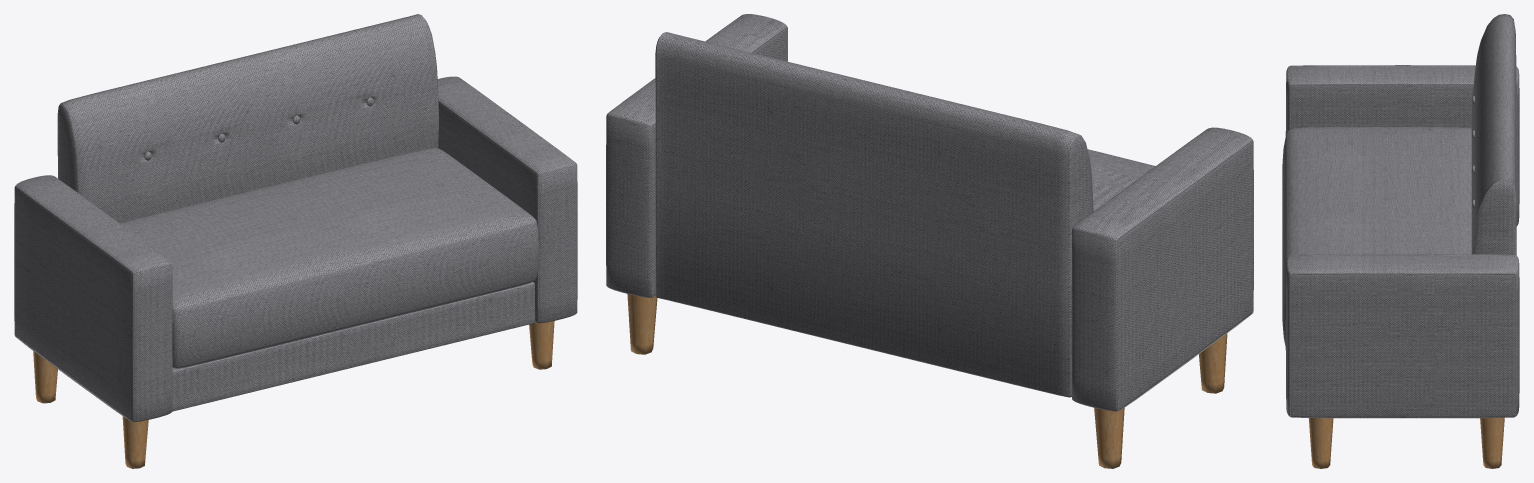
The model's file is design7.obj.
The picture shows the model from 3 angles, left to right: view 1: azimuth 30°, elevation 25°; view 2: azimuth 150°, elevation 25°; view 3: azimuth 270°, elevation 25°; orthographic projection. The views are drawn at different scales.
Parts seen in each view (by area): view 1: Box031, Box029, Box030, Box028, Box032; view 2: Box029, Box030, Box032, Box031; view 3: Box030, Box031, Box029, Box032.
Boxes of the visible parts, x1,y1,x2,y2 form: Box031: (120, 148, 539, 368); Box029: (57, 14, 438, 223); Box030: (14, 76, 577, 422); Box028: (172, 282, 534, 411); Box032: (33, 321, 554, 468); Box029: (655, 32, 1093, 397); Box030: (606, 14, 1253, 411); Box032: (627, 294, 1227, 468); Box031: (1087, 149, 1155, 211); Box030: (1285, 65, 1519, 418); Box031: (1282, 127, 1471, 346); Box029: (1471, 14, 1516, 255); Box032: (1308, 418, 1504, 468).
Size of the model in its own units: 1219 by 749 by 587.
Materials: 2 (2 with a texture image).
